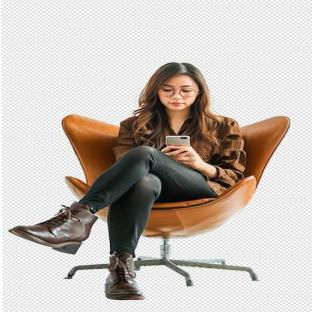Human: (10, 63, 246, 299)
